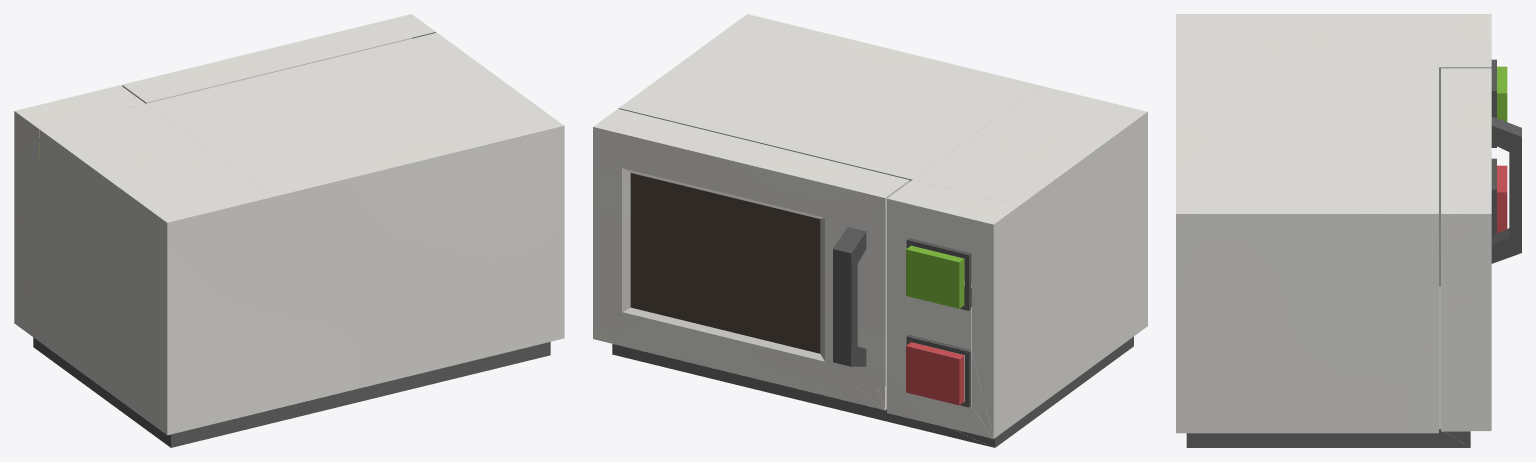
Rendered from SM_Item_MicrowaveOven.fbx.
3 renders of one model, left to right at view 1: azimuth 30°, elevation 25°; view 2: azimuth 150°, elevation 25°; view 3: azimuth 270°, elevation 25°, orthographic. The views are drawn at different scales.
Parts seen in each view (by area): view 1: SM_Item_MicrowaveOven; view 2: SM_Item_MicrowaveOven; view 3: SM_Item_MicrowaveOven.
Part boxes in pixels (x1,y1,x2,y2): SM_Item_MicrowaveOven: (14, 14, 564, 447); SM_Item_MicrowaveOven: (593, 14, 1147, 447); SM_Item_MicrowaveOven: (1176, 14, 1521, 447).
Bounding box in the file's own units: 0.45 × 0.2501 × 0.3288.
